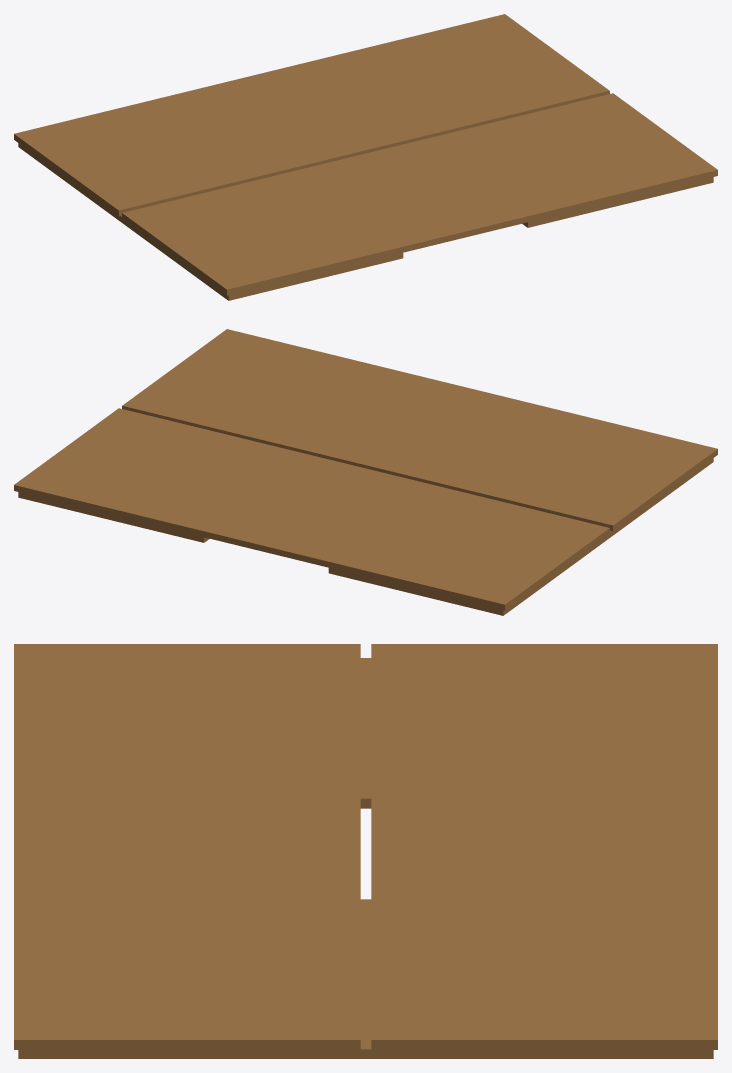
Rendered from CardboardBoxLitClose.fbx.
The picture shows the model from 3 angles, top to bottom: view 1: azimuth 30°, elevation 25°; view 2: azimuth 150°, elevation 25°; view 3: azimuth 270°, elevation 25°; orthographic projection. The views are drawn at different scales.
Visible parts, largest first — view 1: LongLid2, LongLid, SmallLid.001, SmallLid; view 2: LongLid, LongLid2, SmallLid.001, SmallLid; view 3: LongLid, LongLid2, SmallLid, SmallLid.001.
Boxes of the visible parts, x1,y1,x2,y2 form: LongLid2: (122, 93, 717, 295); LongLid: (14, 14, 609, 216); SmallLid.001: (18, 143, 403, 300); SmallLid: (522, 177, 713, 227); LongLid: (14, 408, 609, 610); LongLid2: (122, 329, 717, 531); SmallLid.001: (328, 458, 713, 615); SmallLid: (18, 492, 209, 542); LongLid: (371, 644, 717, 1049); LongLid2: (14, 644, 360, 1049); SmallLid: (18, 899, 713, 1058); SmallLid.001: (360, 658, 371, 808).
Size of the model in its own units: 85.69 by 2.15 by 64.38.
